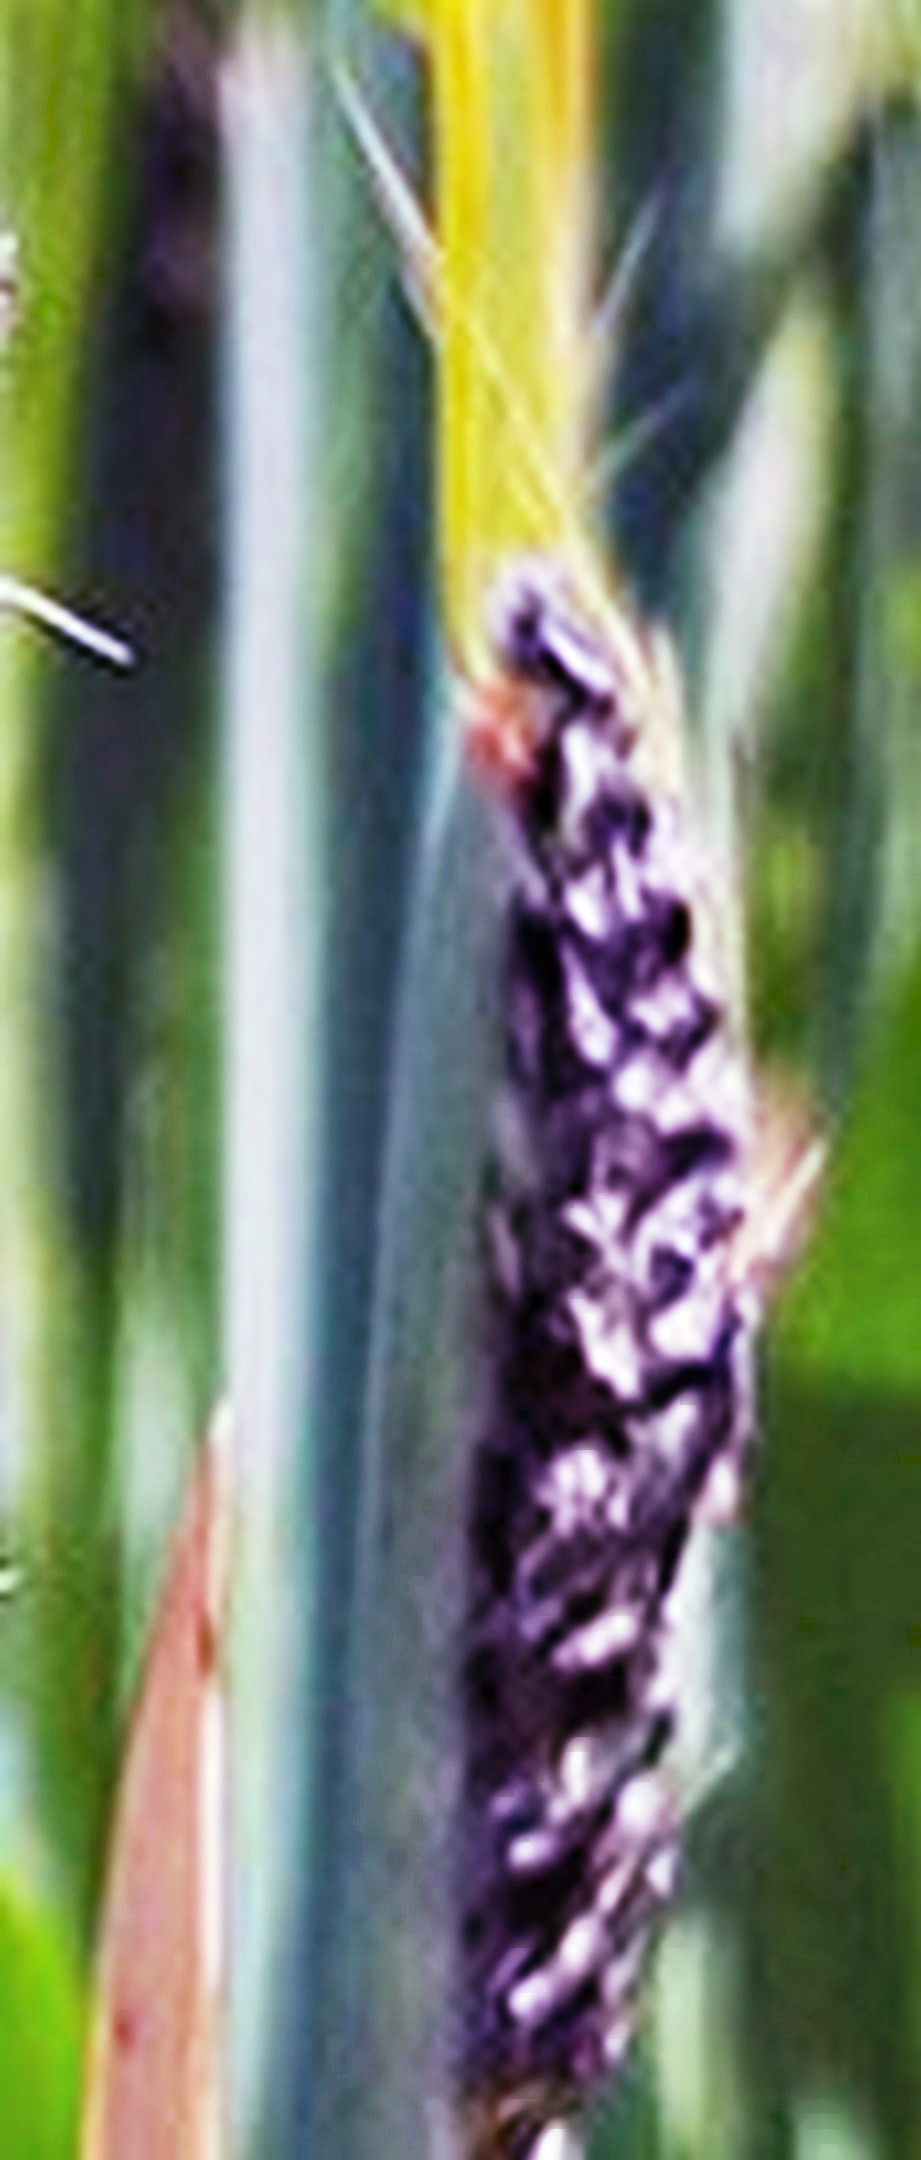Wheat Loose Smut: (361, 536, 829, 2126)
